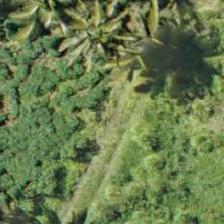coconut_tree: (53, 0, 143, 84)
